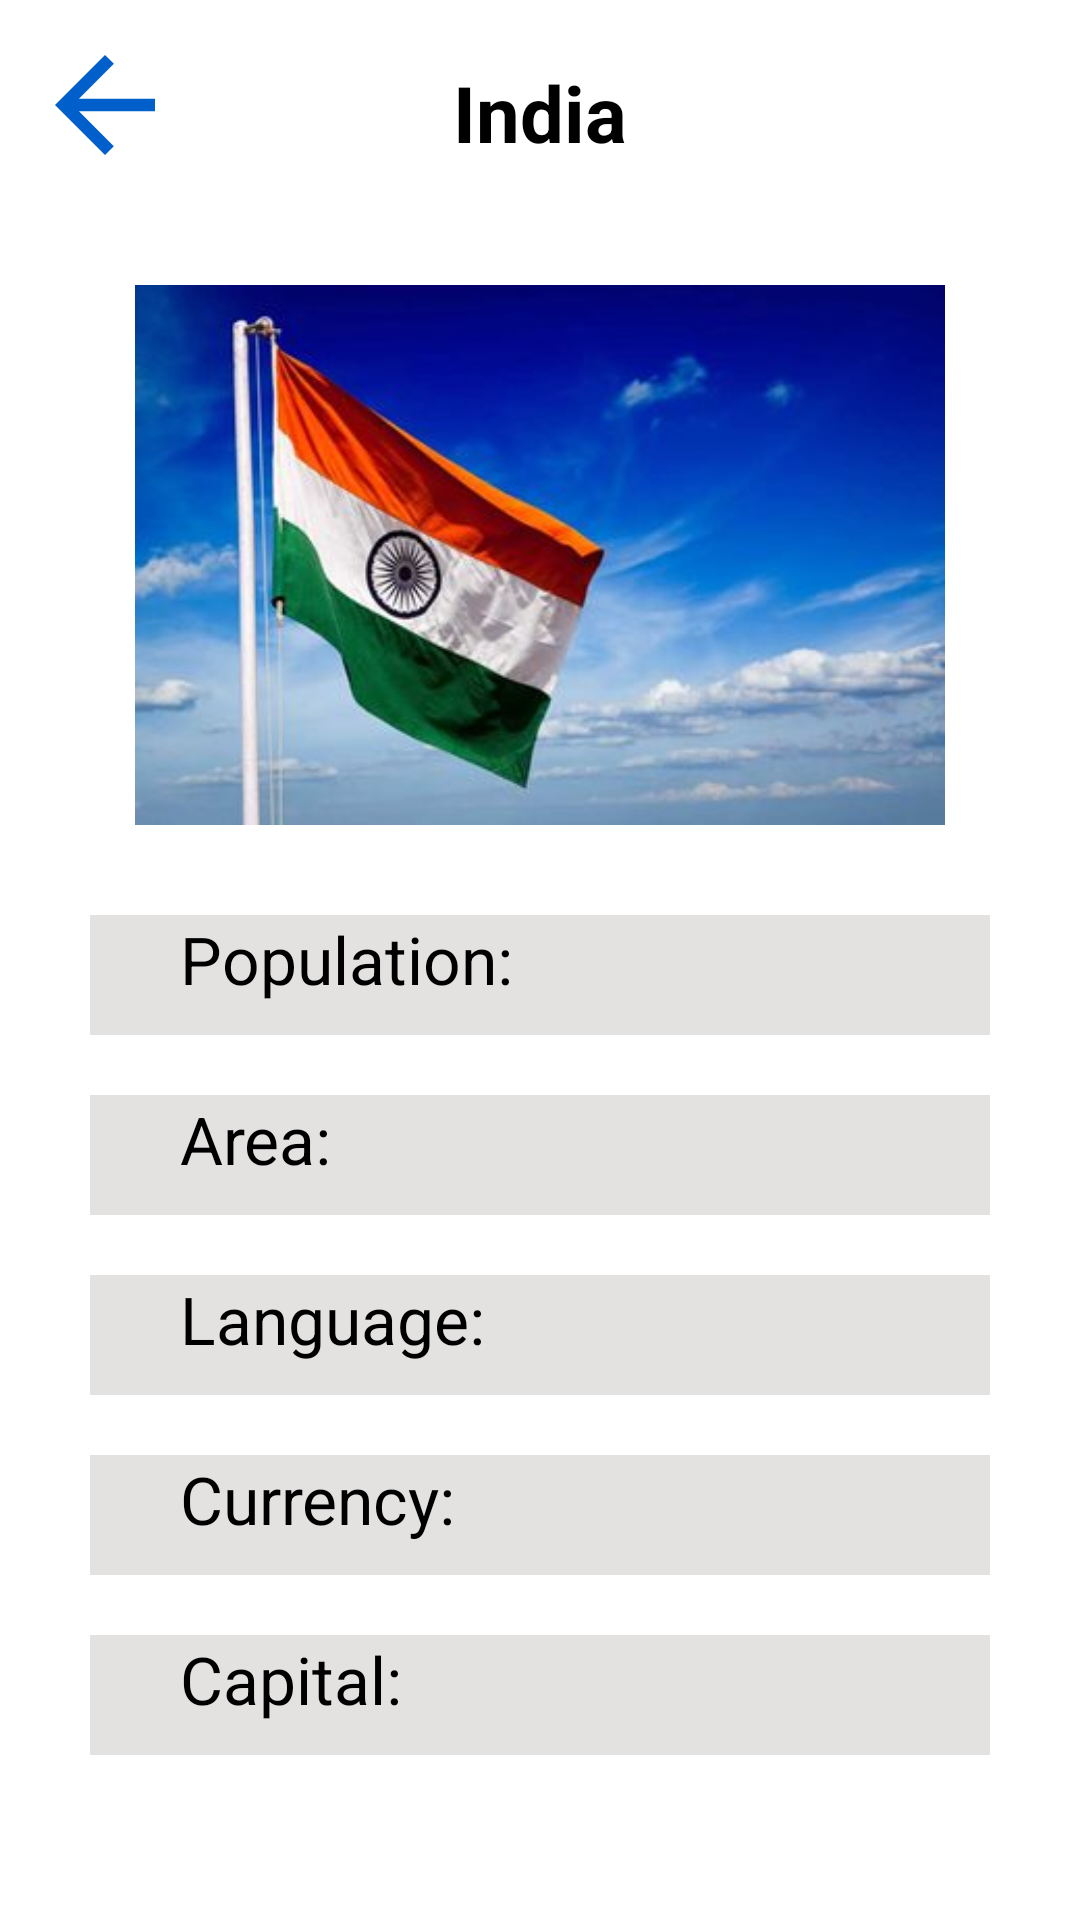

Screen size 1080w x 1920h. Icon name, then its center in pixels as (x=x, y=y):
arrow back: (x=105, y=105)
